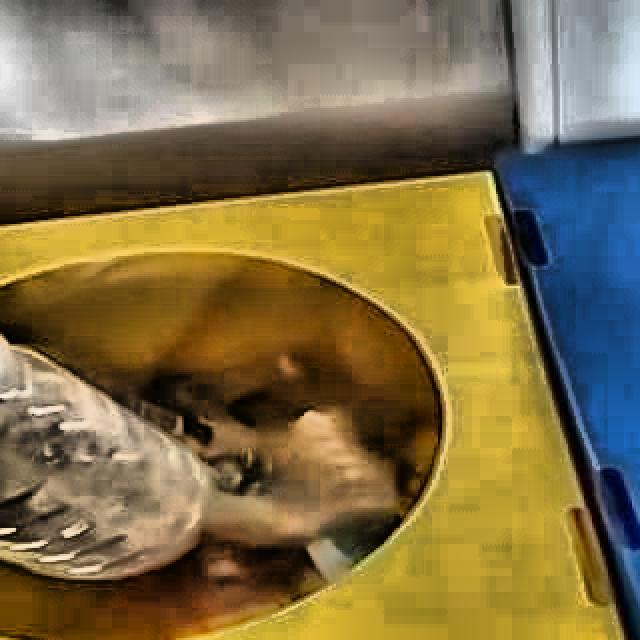plastic: (0, 335, 219, 580)
